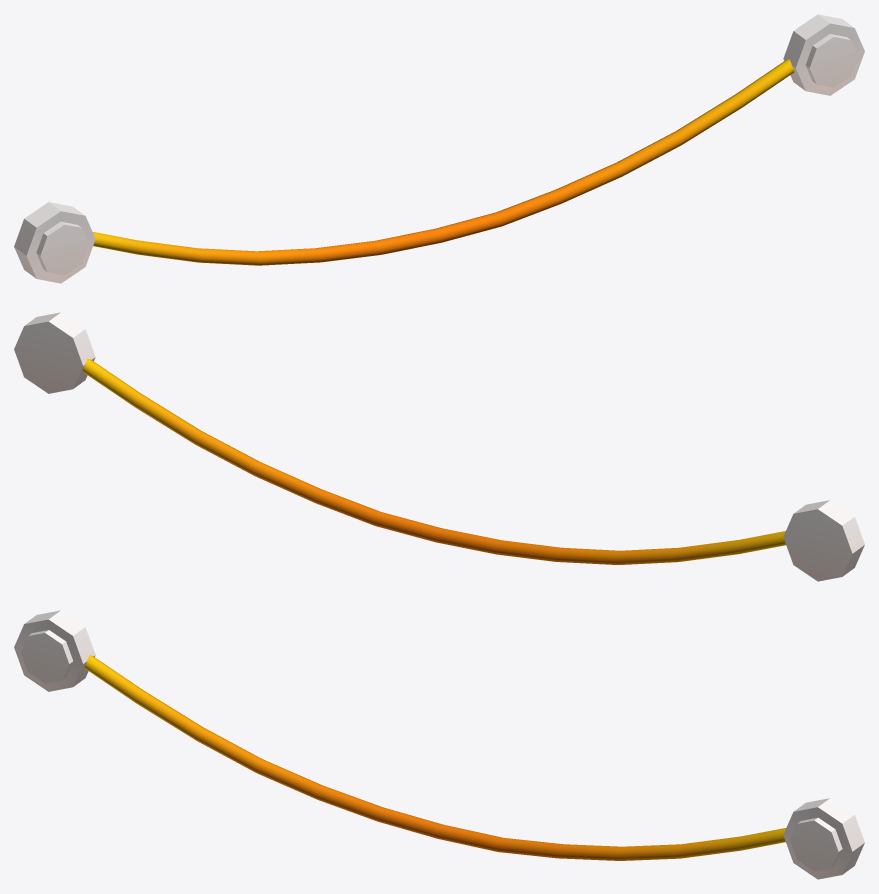
The picture shows the model from 3 angles, top to bottom: view 1: azimuth 30°, elevation 25°; view 2: azimuth 150°, elevation 25°; view 3: azimuth 330°, elevation 25°; orthographic projection.
Visible parts, largest first — view 1: lv6; view 2: lv6; view 3: lv6.
Part boxes in pixels (x1,y1,x2,y2): lv6: (14, 14, 864, 283); lv6: (14, 312, 864, 581); lv6: (14, 610, 864, 879).
Bounding box in the file's own units: 51.72 × 7.71 × 1.71.
Materials: 1 (1 with a texture image).
